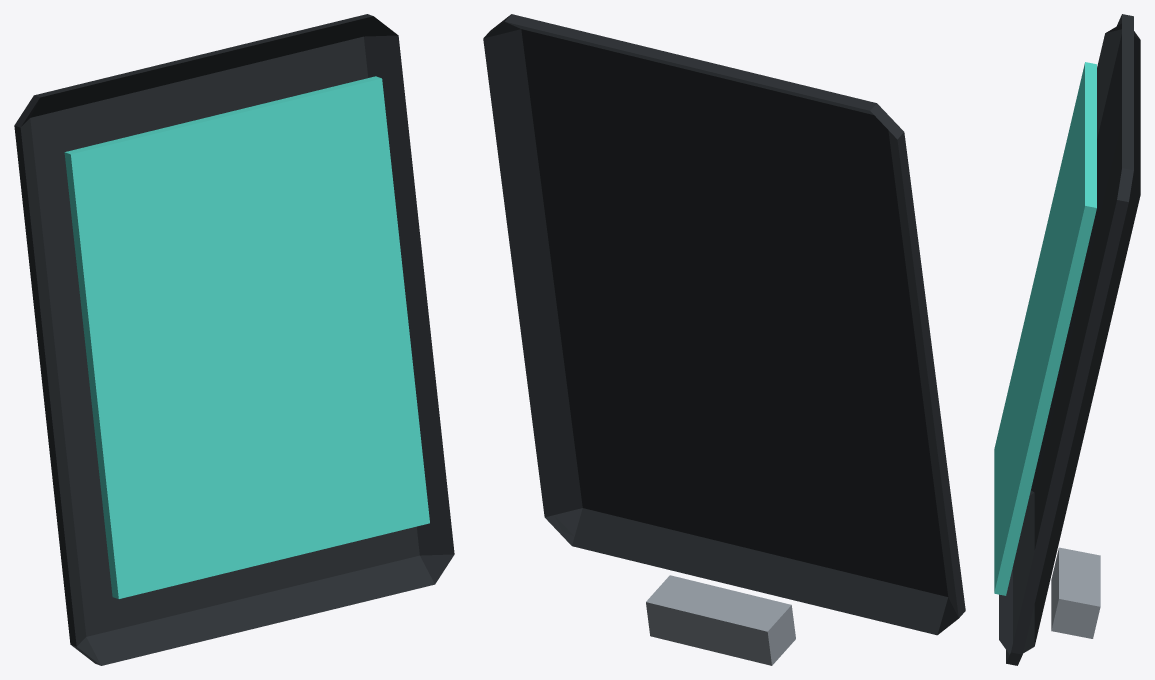
The model's file is pk_intel.glb.
3 views of the same model, side by side, from view 1: azimuth 30°, elevation 25°; view 2: azimuth 150°, elevation 25°; view 3: azimuth 270°, elevation 25° (orthographic). The views are drawn at different scales.
Parts seen in each view (by area): view 1: fx_screen, pad; view 2: pad; view 3: pad, fx_screen.
Boxes of the visible parts, x1,y1,x2,y2 form: fx_screen: [64, 76, 429, 598]; pad: [14, 14, 454, 665]; pad: [483, 14, 965, 665]; pad: [999, 14, 1140, 665]; fx_screen: [994, 62, 1096, 595].
Bounding box in the file's own units: 0.34 × 0.4743 × 0.1206.
1 material, 1 textured.
